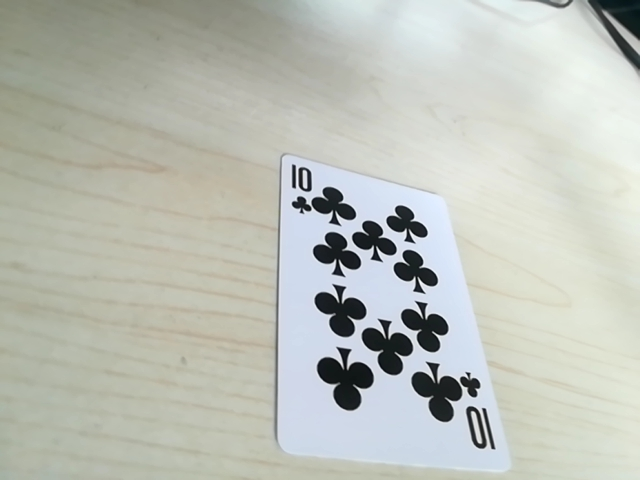mh 10: (460, 372, 495, 457), (283, 158, 313, 221)
